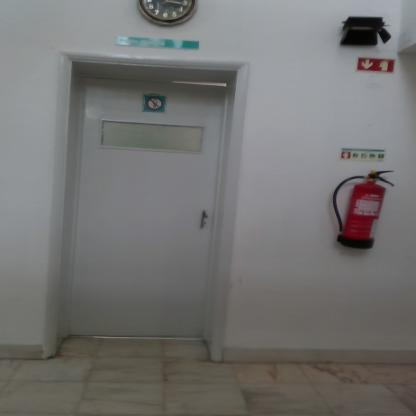door: (71, 67, 227, 348)
